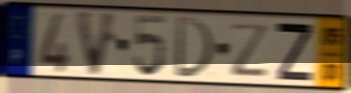4: (37, 10, 72, 75)
5: (132, 13, 167, 80)
D: (173, 14, 217, 81)
V: (74, 8, 120, 79)
Z: (274, 20, 315, 84), (229, 21, 272, 79)
